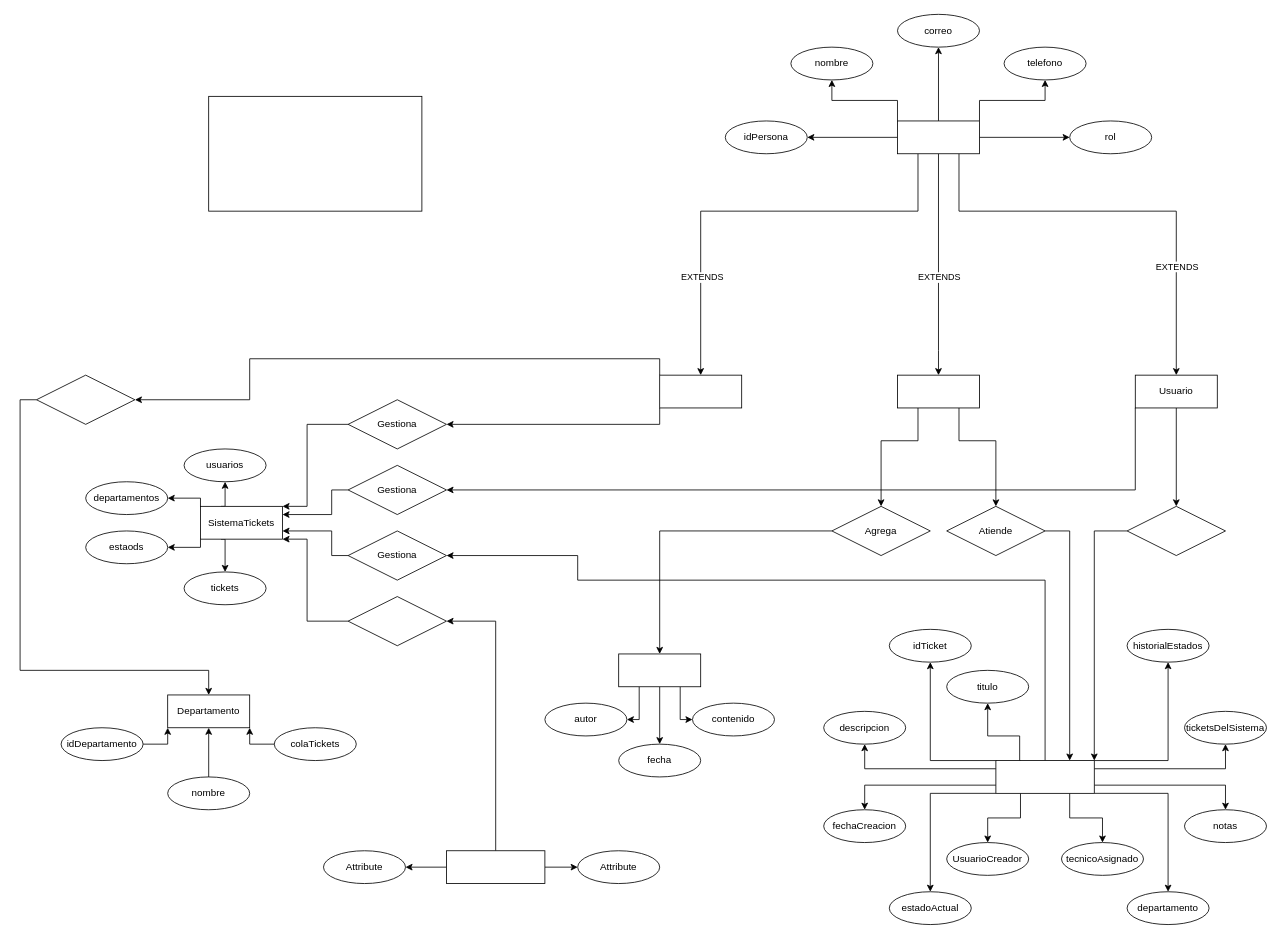
This 1281x939 diagram has some shape labels left out. Each missing label, with the centre of its shape:
Administrador: (x=700, y=391)
Crea: (x=1175, y=531)
EstadiTicket: (x=495, y=867)
Modifica: (x=85, y=399)
muestra: (x=396, y=621)
Nota: (x=659, y=670)
Persona: (x=938, y=137)
SISTEMA DE TICKETS: (x=315, y=153)
Tecnico: (x=938, y=391)
Ticket: (x=1044, y=776)
